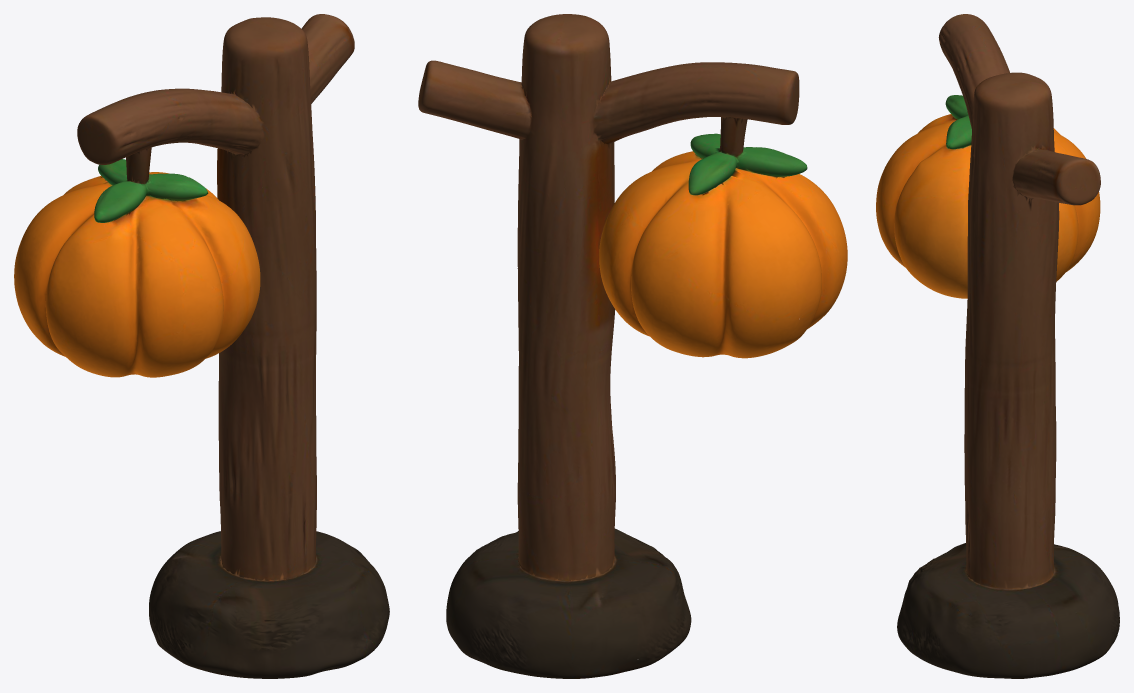
Rendered from lamp.glb.
3 views of the same model, side by side, from view 1: azimuth 30°, elevation 25°; view 2: azimuth 150°, elevation 25°; view 3: azimuth 270°, elevation 25° (orthographic). The views are drawn at different scales.
Visible parts, largest first — view 1: tripo_node_ee8fb443-a768-46b9-8b13-683127e5f0c6; view 2: tripo_node_ee8fb443-a768-46b9-8b13-683127e5f0c6; view 3: tripo_node_ee8fb443-a768-46b9-8b13-683127e5f0c6.
Boxes of the visible parts, x1=… form: tripo_node_ee8fb443-a768-46b9-8b13-683127e5f0c6: x1=14, y1=14, x2=389, y2=678; tripo_node_ee8fb443-a768-46b9-8b13-683127e5f0c6: x1=418, y1=14, x2=847, y2=678; tripo_node_ee8fb443-a768-46b9-8b13-683127e5f0c6: x1=876, y1=14, x2=1119, y2=678.
Bounding box in the file's own units: 0.6079 × 0.9789 × 0.3894.
1 material, 1 textured.
